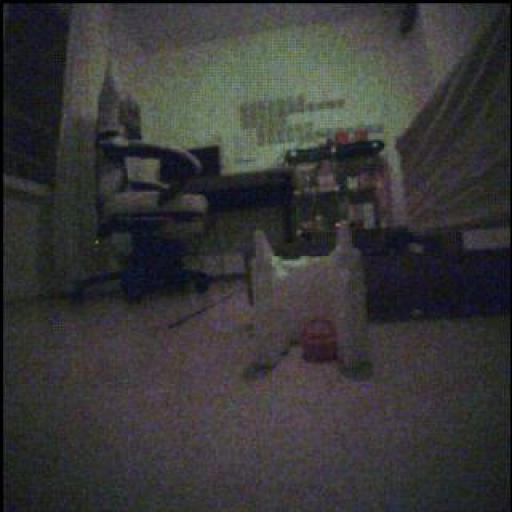basket: (302, 320, 339, 363), (336, 131, 352, 147), (355, 129, 369, 143)
